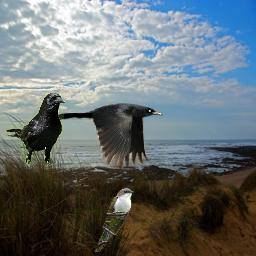Crow: (53, 102, 164, 169), (6, 92, 66, 165)
Cuckoo: (94, 187, 134, 252)
